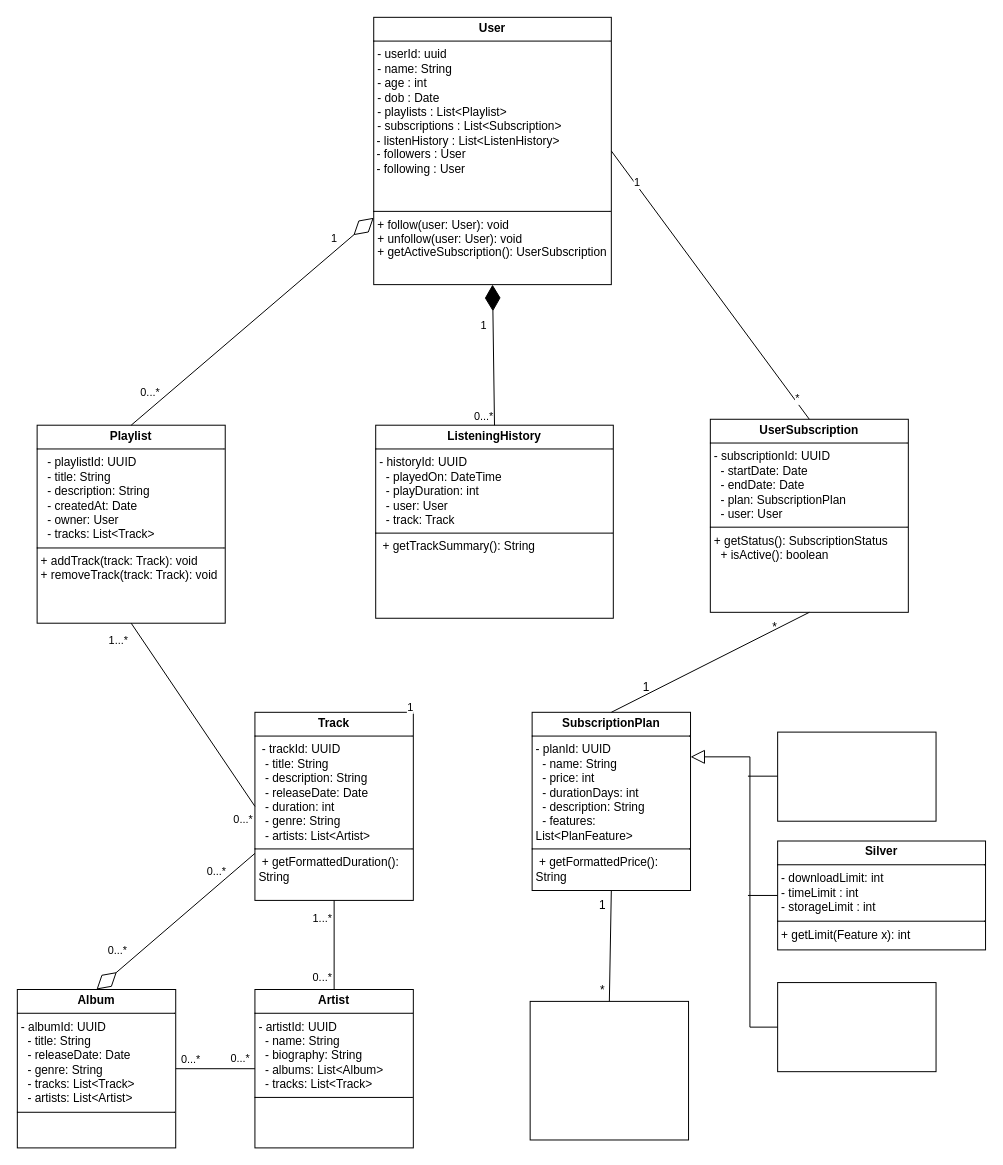
The diagram is 1003 pixels wide and 1165 high, and some of its shapes have lost their labels. Each missing label, with the centre of its shape:
"Bronze + adsEnabled: boolean + hasAds(): boolean" belongs at (x=856, y=1027).
"GoldPlan + premiumContent : + premiumSupportContact: String" belongs at (x=856, y=776).
"PlanFeature - featureId: UUID - title: String - description: String" belongs at (x=609, y=1070).
